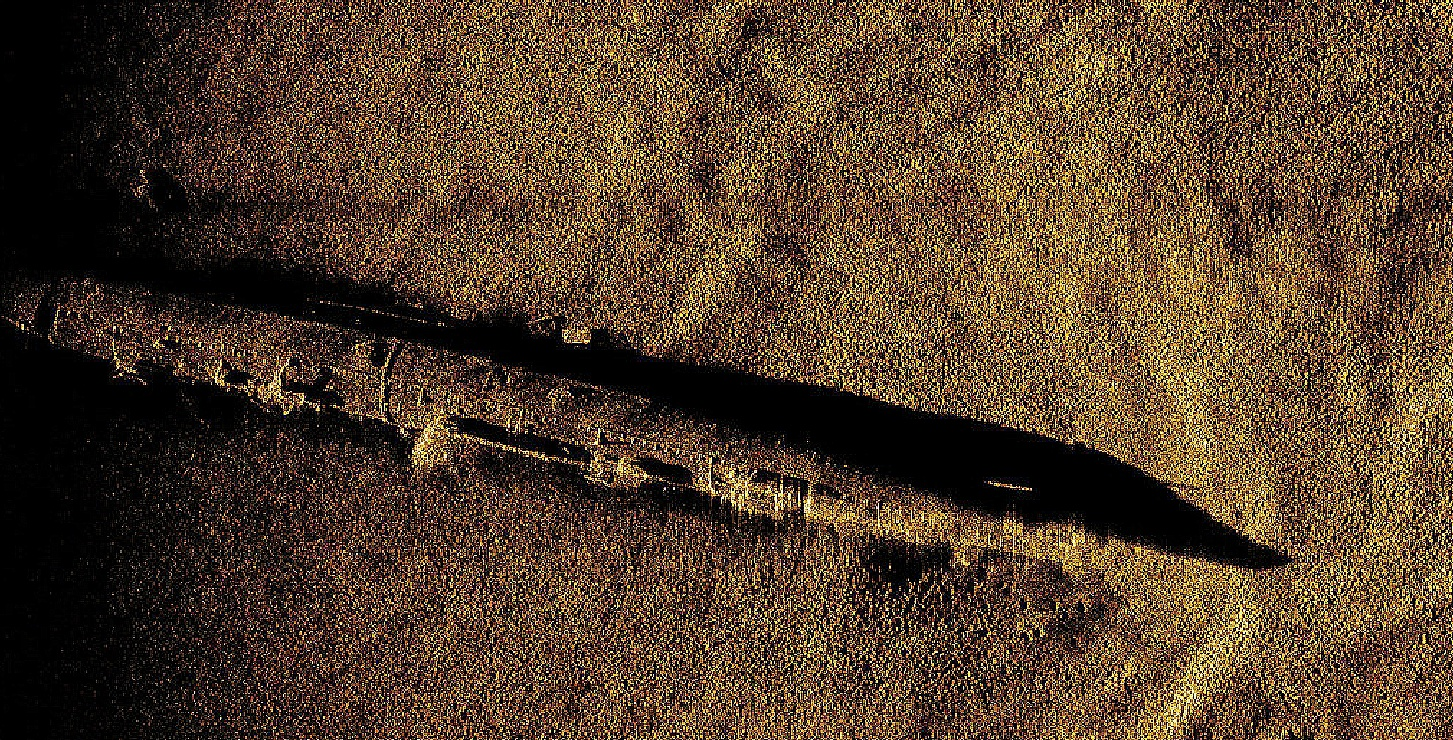ship: (2, 269, 1107, 568)
